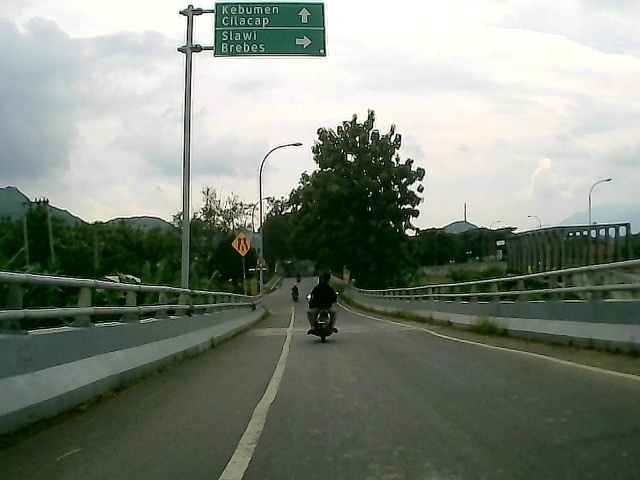Akhir bangunan pemisah satu arah: (228, 231, 254, 259)
